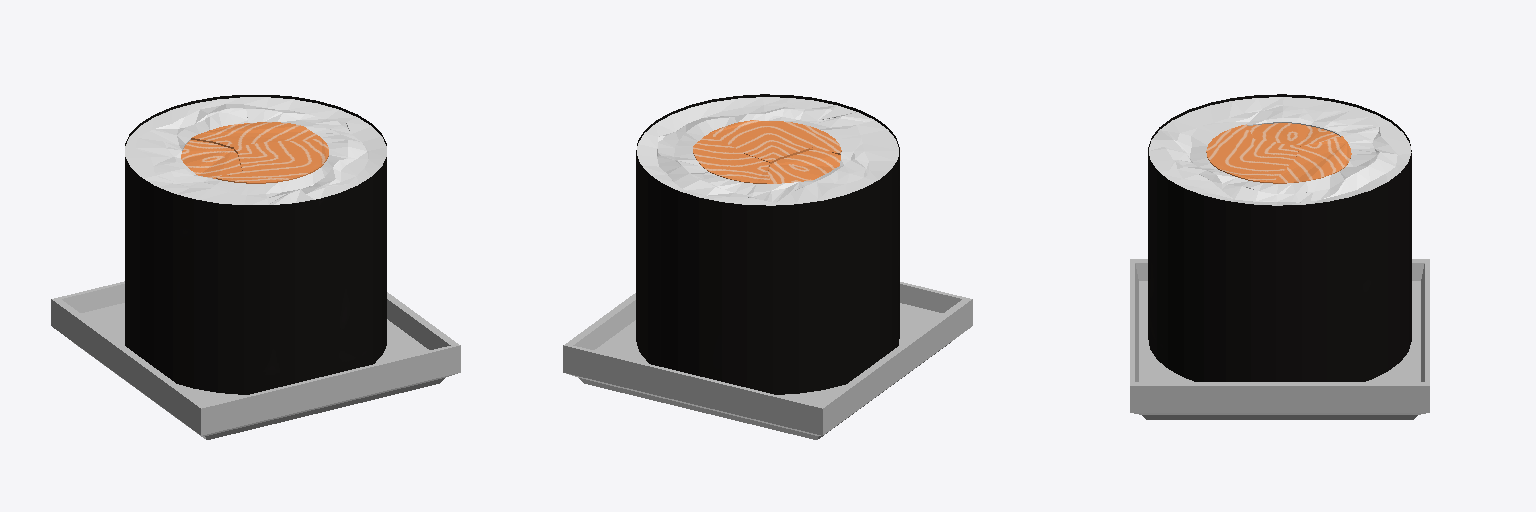
3 renders of one model, left to right at view 1: azimuth 30°, elevation 25°; view 2: azimuth 150°, elevation 25°; view 3: azimuth 270°, elevation 25°, orthographic.
Parts seen in each view (by area): view 1: Cylinder.001, Cube; view 2: Cylinder.001, Cube; view 3: Cylinder.001, Cube.
Boxes of the visible parts, x1,y1,x2,y2 form: Cylinder.001: [125, 95, 386, 394]; Cube: [51, 281, 460, 439]; Cylinder.001: [636, 94, 899, 394]; Cube: [563, 282, 972, 439]; Cylinder.001: [1148, 94, 1411, 381]; Cube: [1130, 259, 1429, 419].
Bounding box in the file's own units: 2 × 1.58 × 2.
Materials: 2 (1 with a texture image).